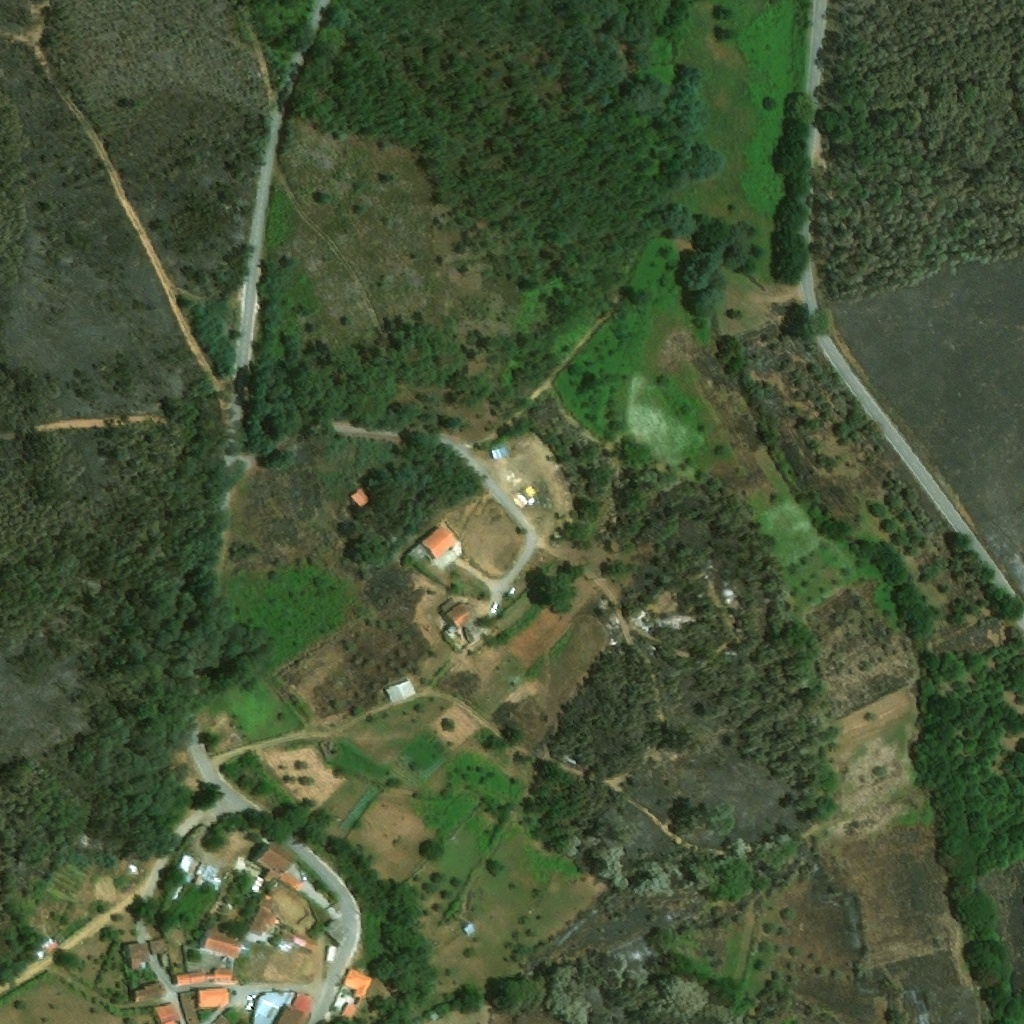0 no-damage: (250, 991, 314, 1023), (256, 841, 295, 881), (201, 929, 244, 960), (422, 524, 457, 558), (247, 904, 282, 938), (173, 967, 232, 986), (341, 967, 373, 1001), (279, 923, 316, 951), (441, 597, 473, 628), (190, 864, 221, 896), (121, 942, 149, 970), (30, 935, 58, 962), (323, 916, 350, 943), (133, 982, 167, 1003), (198, 988, 229, 1010), (153, 1002, 184, 1023), (149, 939, 169, 969), (173, 853, 194, 878), (280, 871, 304, 892), (350, 487, 372, 509), (339, 1002, 358, 1022), (248, 875, 266, 895), (459, 922, 477, 939), (425, 1008, 441, 1023), (325, 944, 337, 962)
2 major-damage: (559, 748, 580, 768)
4 un-classified: (211, 1013, 232, 1023), (537, 746, 547, 756)
